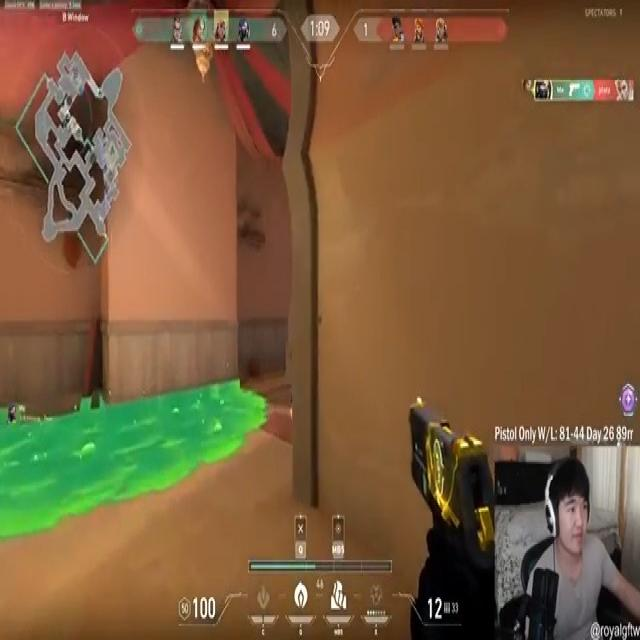molly: (0, 381, 269, 538)
